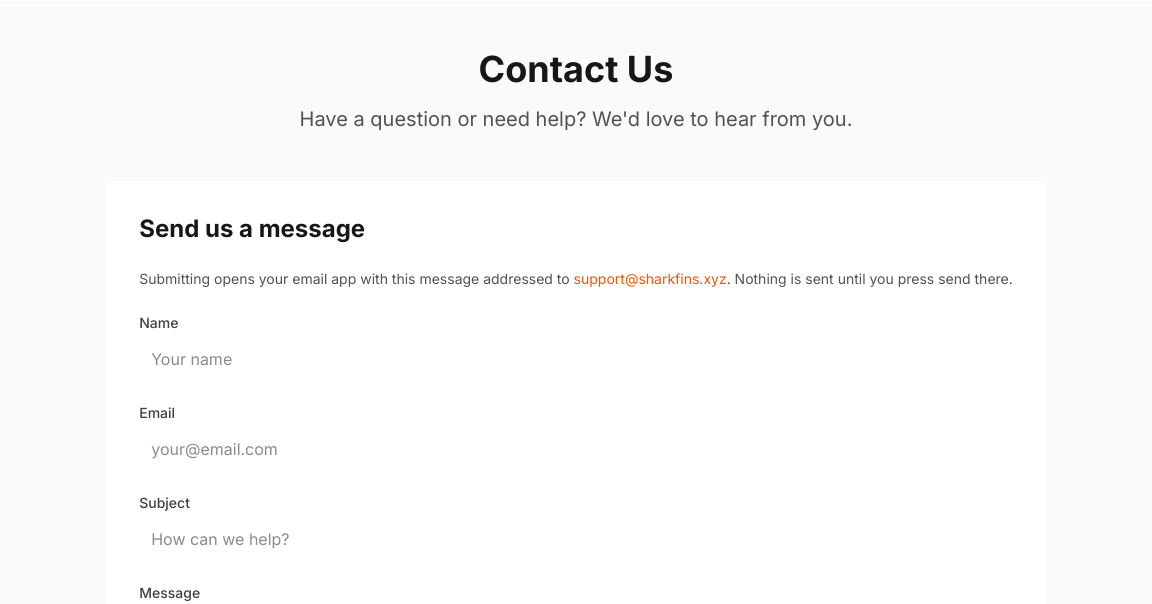
Test case: ContactPage › opens a mailto link instead of faking a successful send
Type "Ada" into the field labelled "Name" at (576, 359), box [139,339,1013,379]
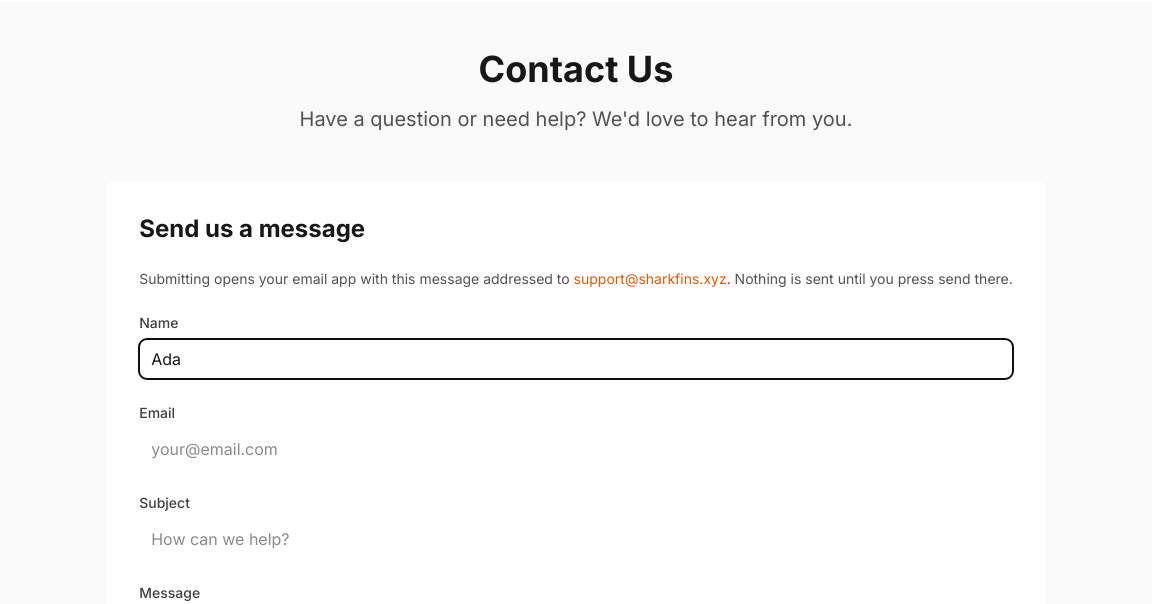
Type "ada@example.com" into the field labelled "Email" at (576, 449), box [139,429,1013,469]
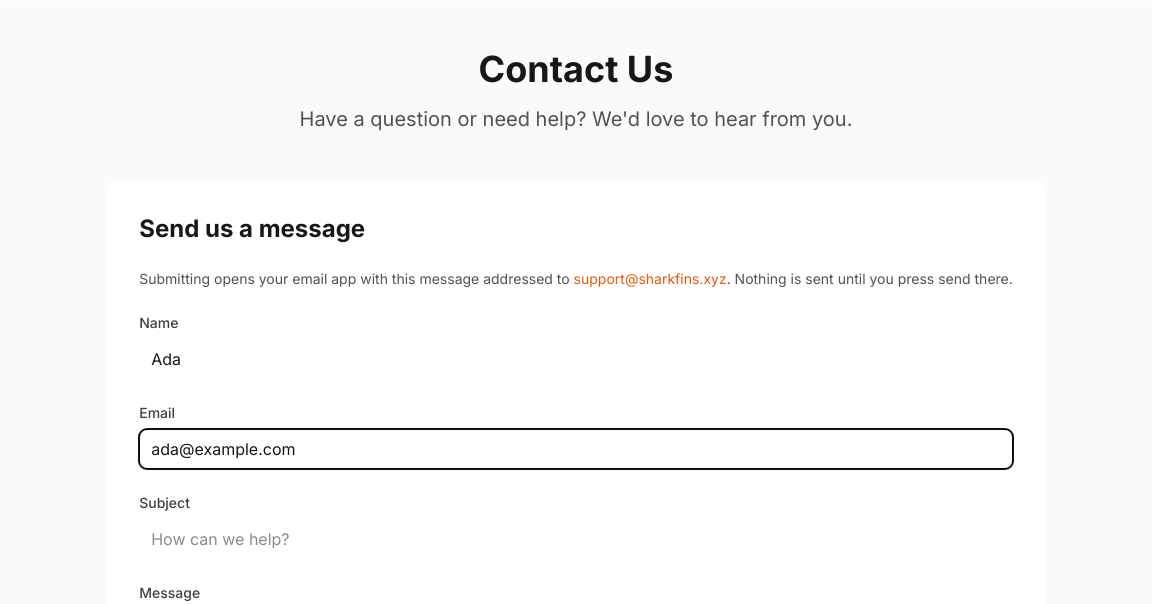
Type "Hello there" into the field labelled "Subject" at (576, 539), box [139,519,1013,559]
(page scrolled)
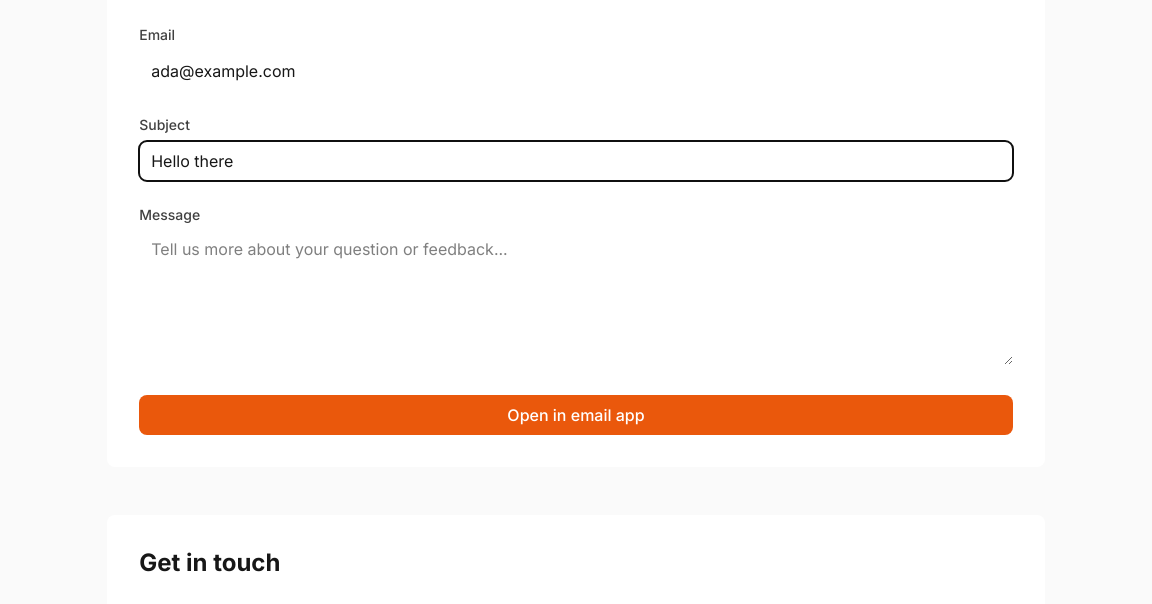
Type "Question" into the text box labelled "Message" at (576, 297), box [139,229,1013,365]
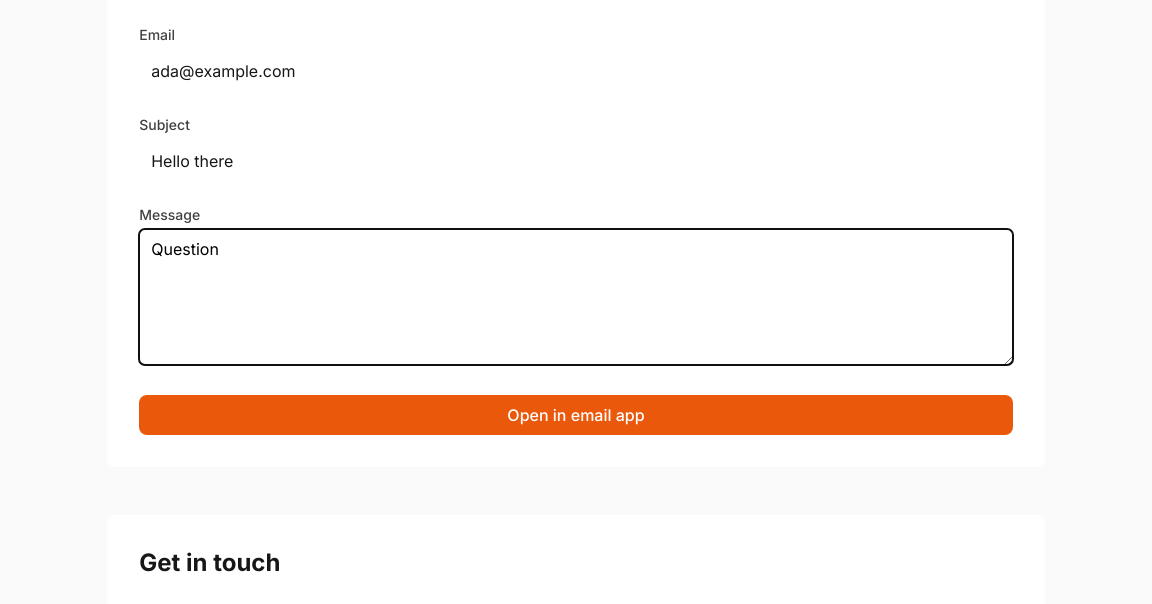
Click the button "Open in email app" at (576, 415), box [139,395,1013,435]
(page scrolled)
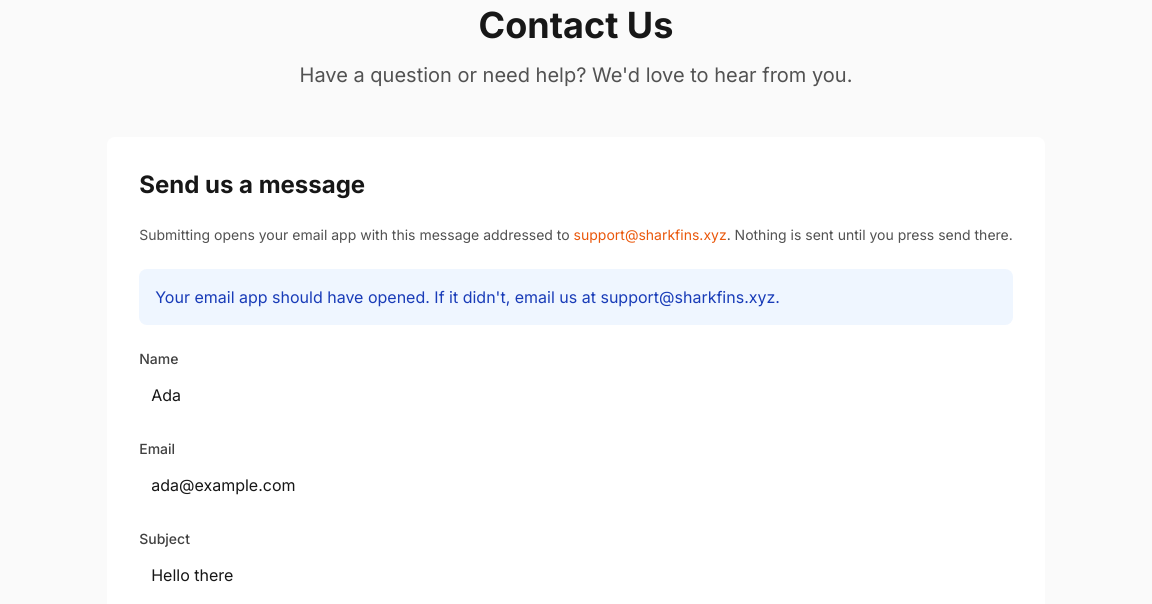
Result: the message shows "support@sharkfins.xyz" at [600,287,775,307]
